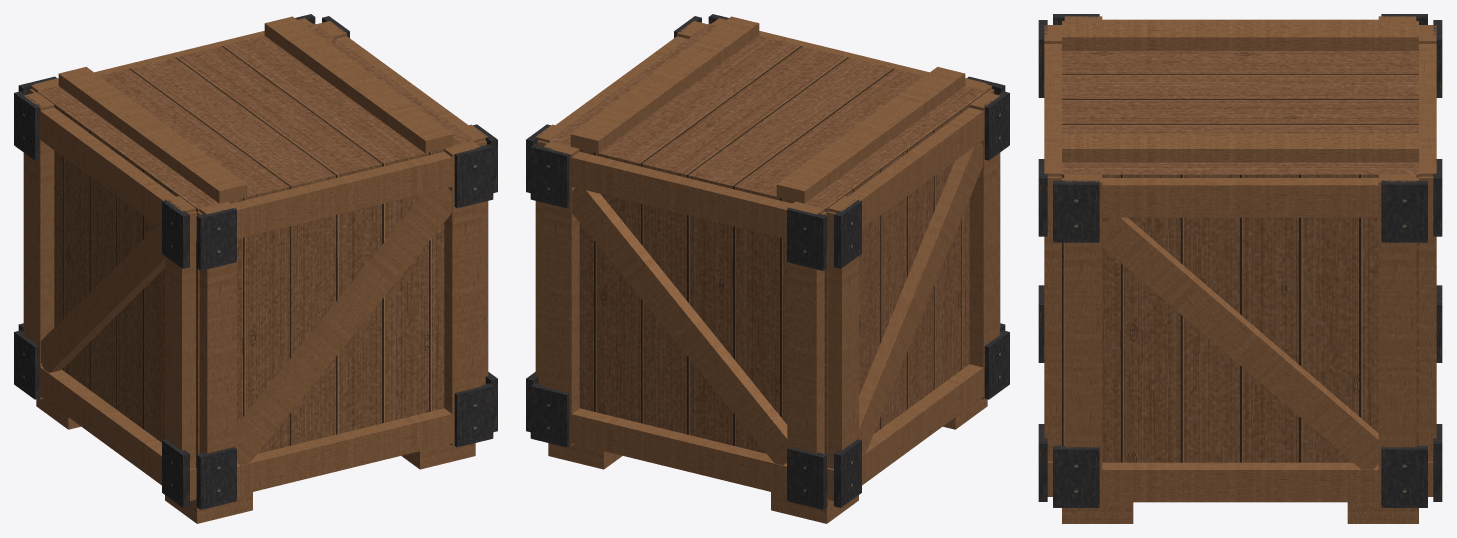
The model's file is cargo_crate.glb.
3 views of the same model, side by side, from view 1: azimuth 30°, elevation 25°; view 2: azimuth 150°, elevation 25°; view 3: azimuth 270°, elevation 25° (orthographic). The views are drawn at different scales.
Visible parts, largest first — view 1: cargo_crate_ground_pivot_y_up; view 2: cargo_crate_ground_pivot_y_up; view 3: cargo_crate_ground_pivot_y_up.
Part boxes in pixels (bbox=[...]): cargo_crate_ground_pivot_y_up: bbox=[14, 14, 497, 523]; cargo_crate_ground_pivot_y_up: bbox=[526, 14, 1009, 523]; cargo_crate_ground_pivot_y_up: bbox=[1038, 14, 1442, 523].
Bounding box in the file's own units: 1.13 × 1.12 × 1.13.
Materials: 4 (4 with a texture image).
